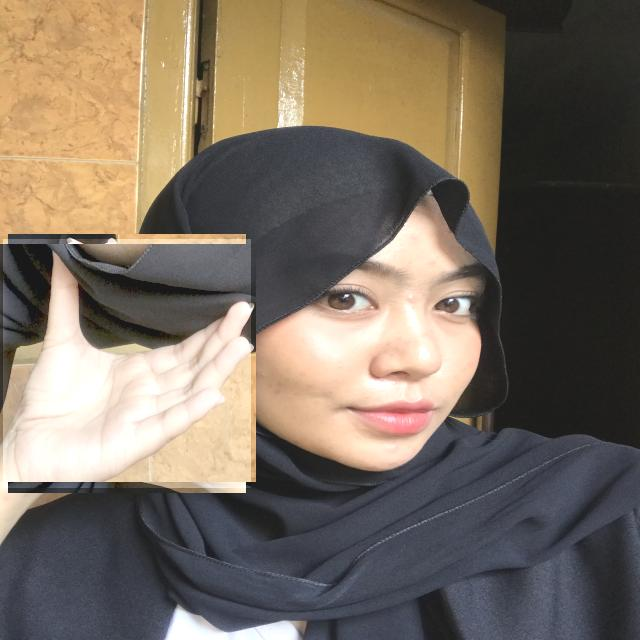mendengar: (3, 239, 251, 488)
